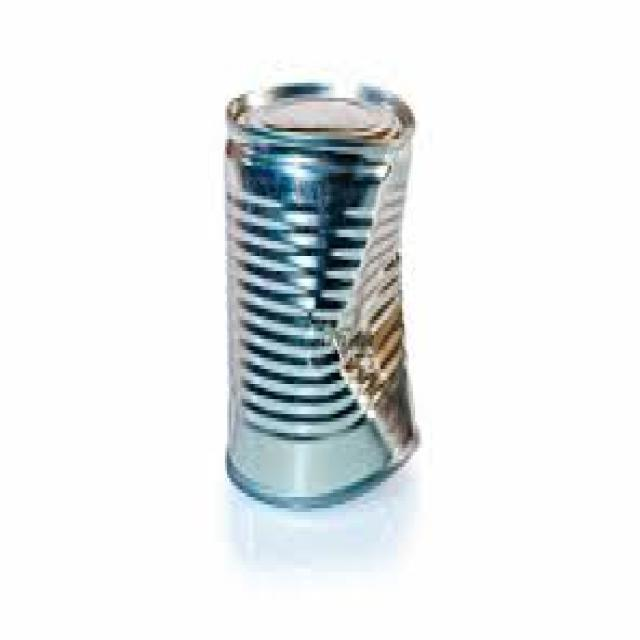metal: (225, 76, 419, 508)
